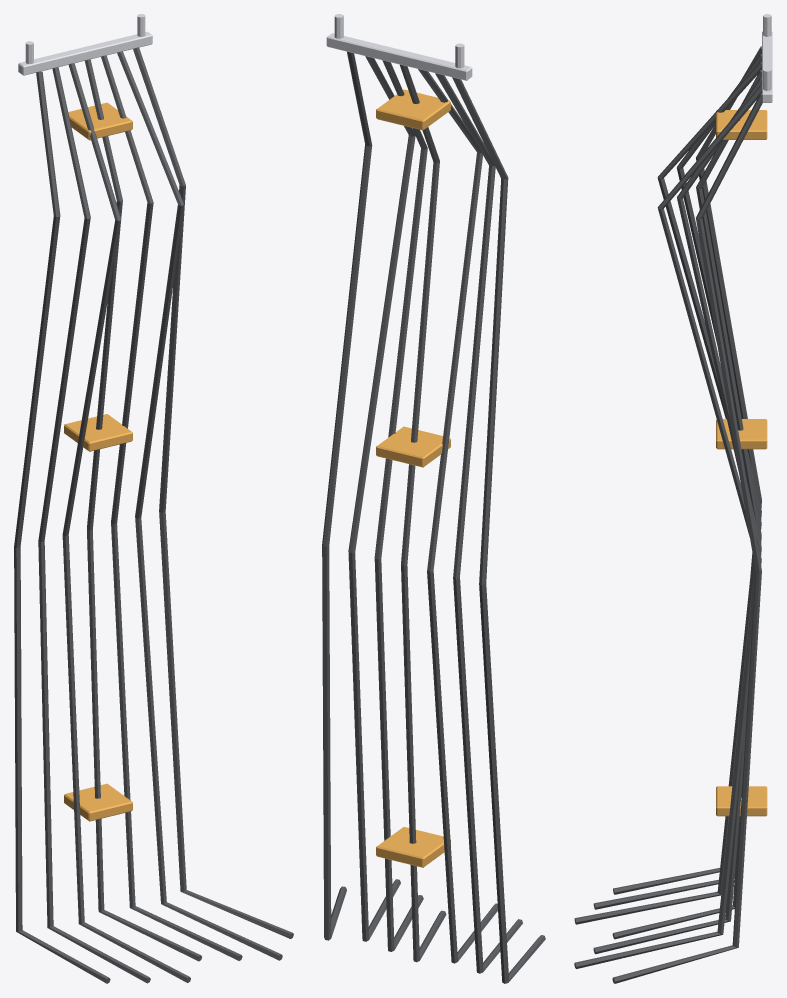
File: 35503_Cable_Drape_from_the_Grid__TV_Studio_and_Broadcast_Gallery_.glb
The picture shows the model from 3 angles, left to right: view 1: azimuth 30°, elevation 25°; view 2: azimuth 150°, elevation 25°; view 3: azimuth 270°, elevation 25°; orthographic projection. The views are drawn at different scales.
Visible parts, largest first — view 1: cable-drape; view 2: cable-drape; view 3: cable-drape.
Part boxes in pixels (x1,y1,x2,y2): cable-drape: (14, 14, 293, 983); cable-drape: (322, 14, 545, 983); cable-drape: (574, 14, 772, 983).
Bounding box in the file's own units: 1.17 × 4.54 × 0.93.
